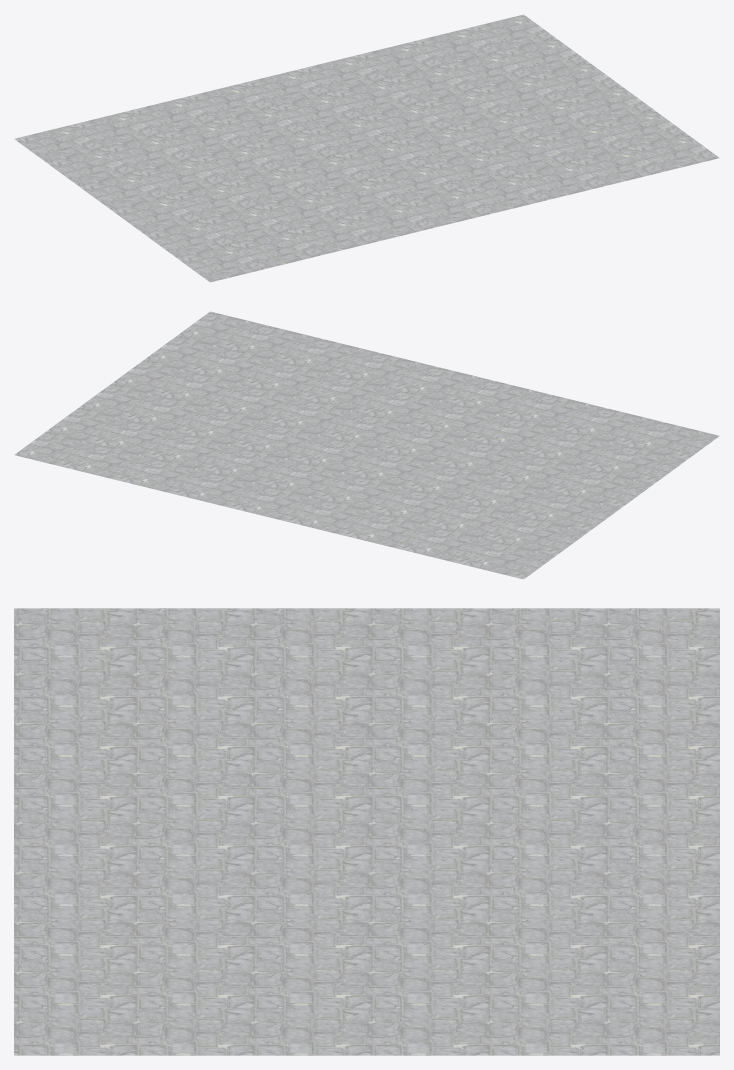
File: gnd_stone.glb
3 renders of one model, top to bottom at view 1: azimuth 30°, elevation 25°; view 2: azimuth 150°, elevation 25°; view 3: azimuth 270°, elevation 25°, orthographic. The views are drawn at different scales.
Visible parts, largest first — view 1: Floor Tilable_Material.001_0; view 2: Floor Tilable_Material.001_0; view 3: Floor Tilable_Material.001_0.
Part boxes in pixels (x1,y1,x2,y2): Floor Tilable_Material.001_0: (14, 14, 719, 282); Floor Tilable_Material.001_0: (14, 311, 719, 579); Floor Tilable_Material.001_0: (14, 608, 719, 1055).
Bounding box in the file's own units: 1800 × 0.000196 × 1200.
1 material, 1 textured.
